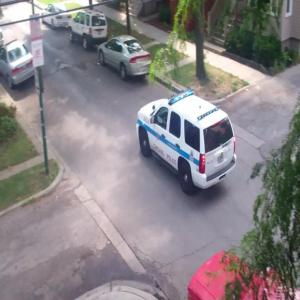Vehicle-registration-plate: (219, 154, 226, 166)
